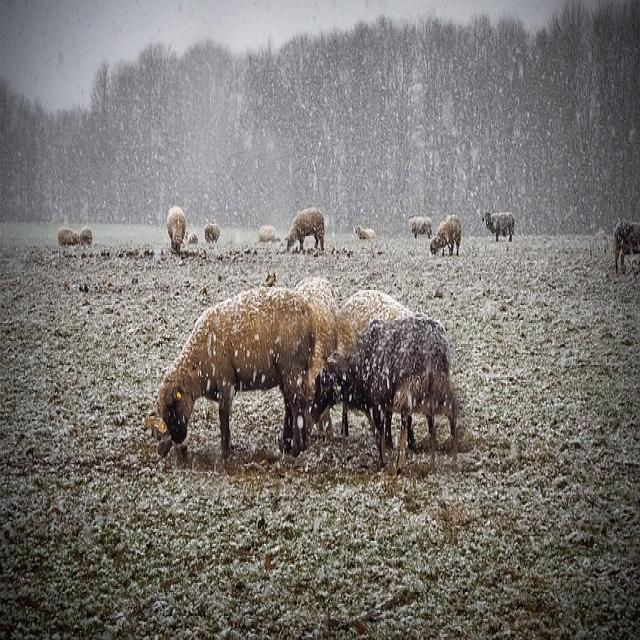goat: (158, 287, 315, 457), (311, 314, 456, 472), (295, 278, 338, 388), (338, 291, 410, 352), (286, 208, 324, 252), (614, 220, 640, 273), (430, 214, 461, 255), (482, 214, 515, 242), (168, 207, 186, 253), (58, 227, 92, 246), (409, 216, 431, 238), (205, 220, 220, 243), (259, 225, 279, 242), (355, 229, 375, 240), (79, 227, 91, 245)
